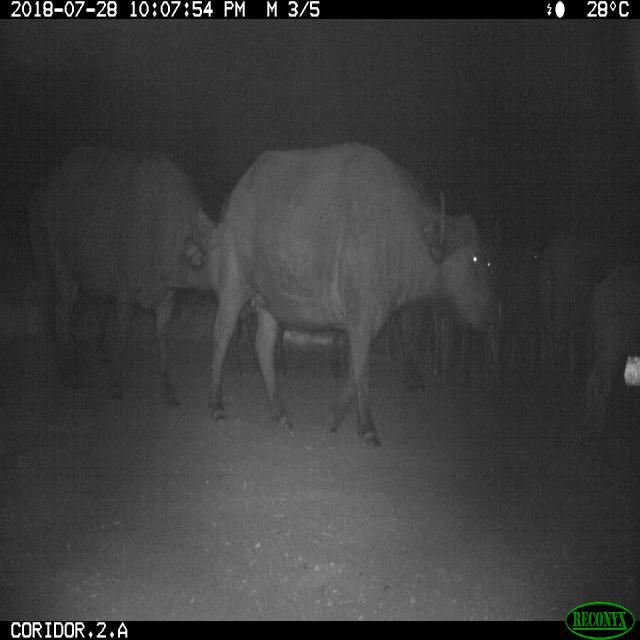buffalo: (190, 145, 456, 436)
